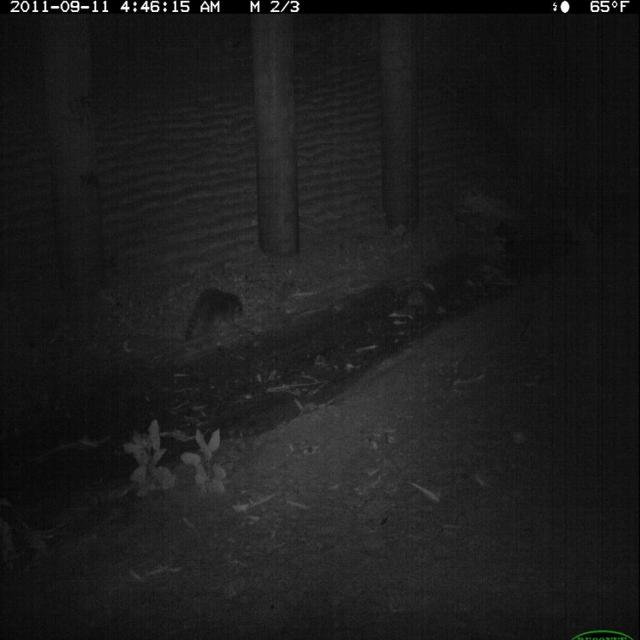raccoon: (181, 282, 248, 352)
